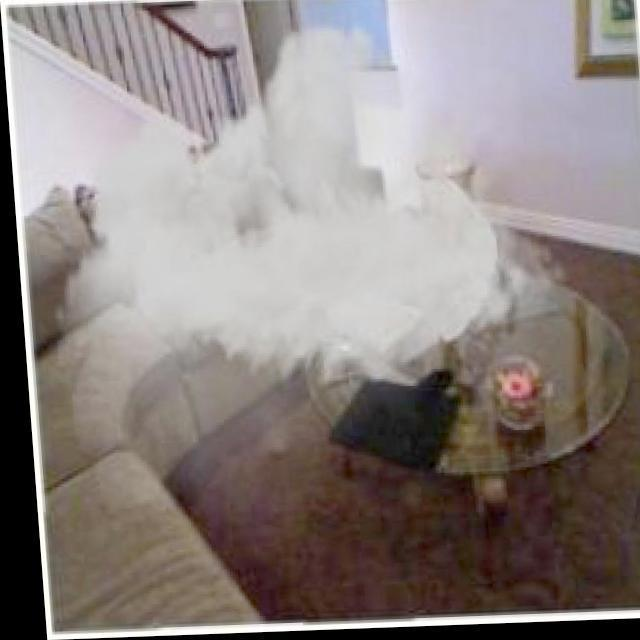Smoke: (32, 20, 610, 572)
